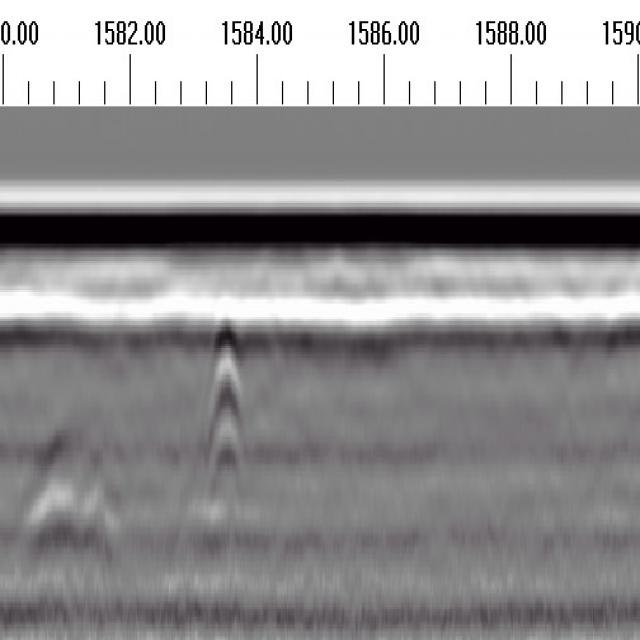crack: (205, 297, 241, 531)
